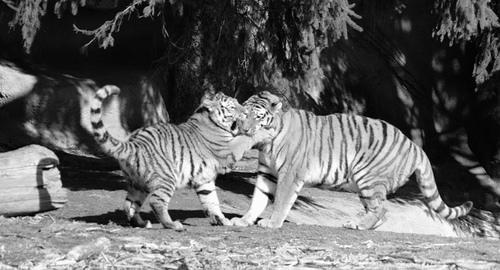Tigre: (238, 86, 477, 233), (90, 76, 244, 226)
